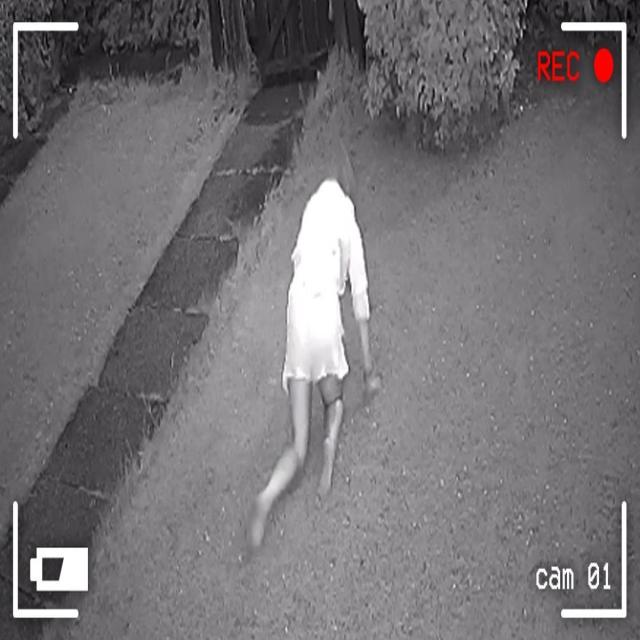fallen: (250, 149, 381, 545)
